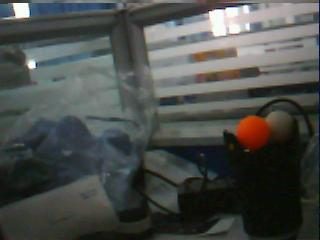oball: (237, 115, 269, 149)
